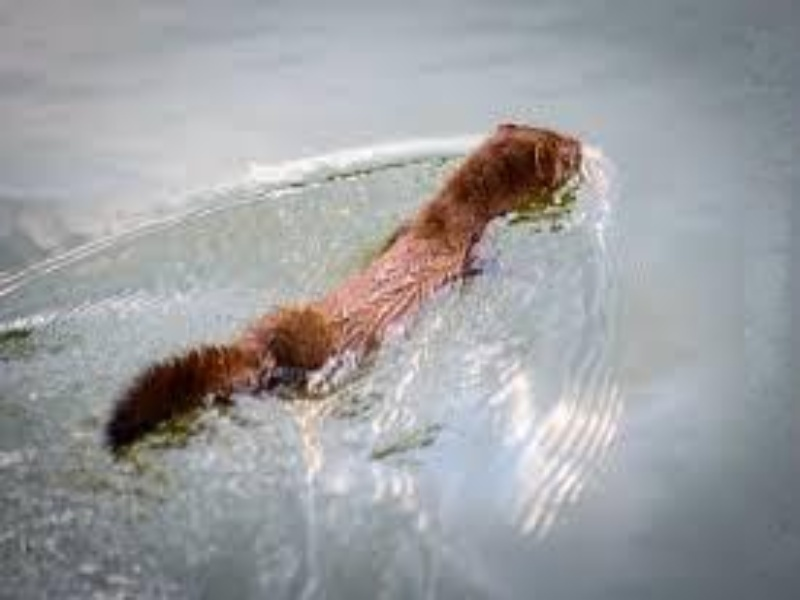minkish: (101, 119, 584, 459)
